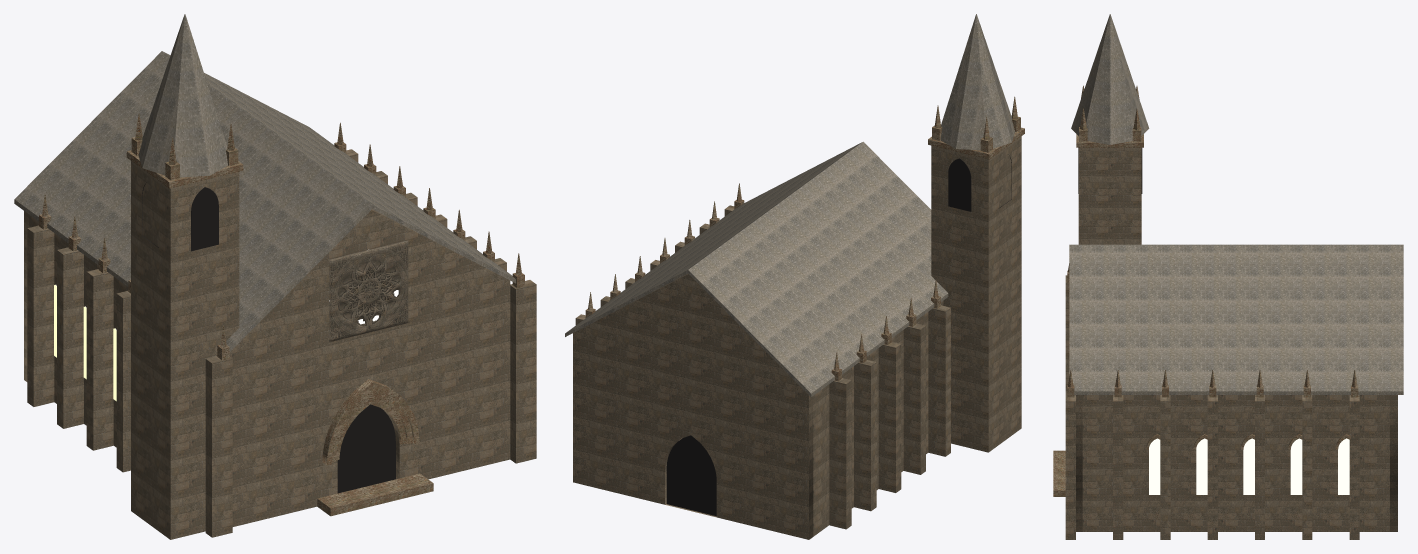
The model's file is rose-window.glb.
3 renders of one model, left to right at view 1: azimuth 30°, elevation 25°; view 2: azimuth 150°, elevation 25°; view 3: azimuth 270°, elevation 25°, orthographic. The views are drawn at different scales.
Parts seen in each view (by area): view 1: christian_wall, christian_roof, christian_trim, merged_christian_relief_christian-rose, christian_shadow, christian_glass; view 2: christian_wall, christian_roof, christian_shadow, christian_trim; view 3: christian_roof, christian_wall, christian_glass, christian_trim.
Part boxes in pixels (<box>): christian_wall: <box>24,149,536,539</box>; christian_roof: <box>14,14,515,351</box>; christian_trim: <box>39,113,524,516</box>; merged_christian_relief_christian-rose: <box>329,240,408,341</box>; christian_shadow: <box>142,182,395,493</box>; christian_glass: <box>54,249,398,401</box>; christian_wall: <box>573,136,1021,539</box>; christian_roof: <box>565,14,1014,396</box>; christian_shadow: <box>666,154,1011,516</box>; christian_trim: <box>585,96,1024,381</box>; christian_roof: <box>1069,14,1403,394</box>; christian_wall: <box>1065,147,1397,539</box>; christian_glass: <box>1149,438,1349,494</box>; christian_trim: <box>1053,85,1358,496</box>.
Size of the model in its own units: 21.33 by 28.02 by 22.2.
8 materials, 5 textured.
